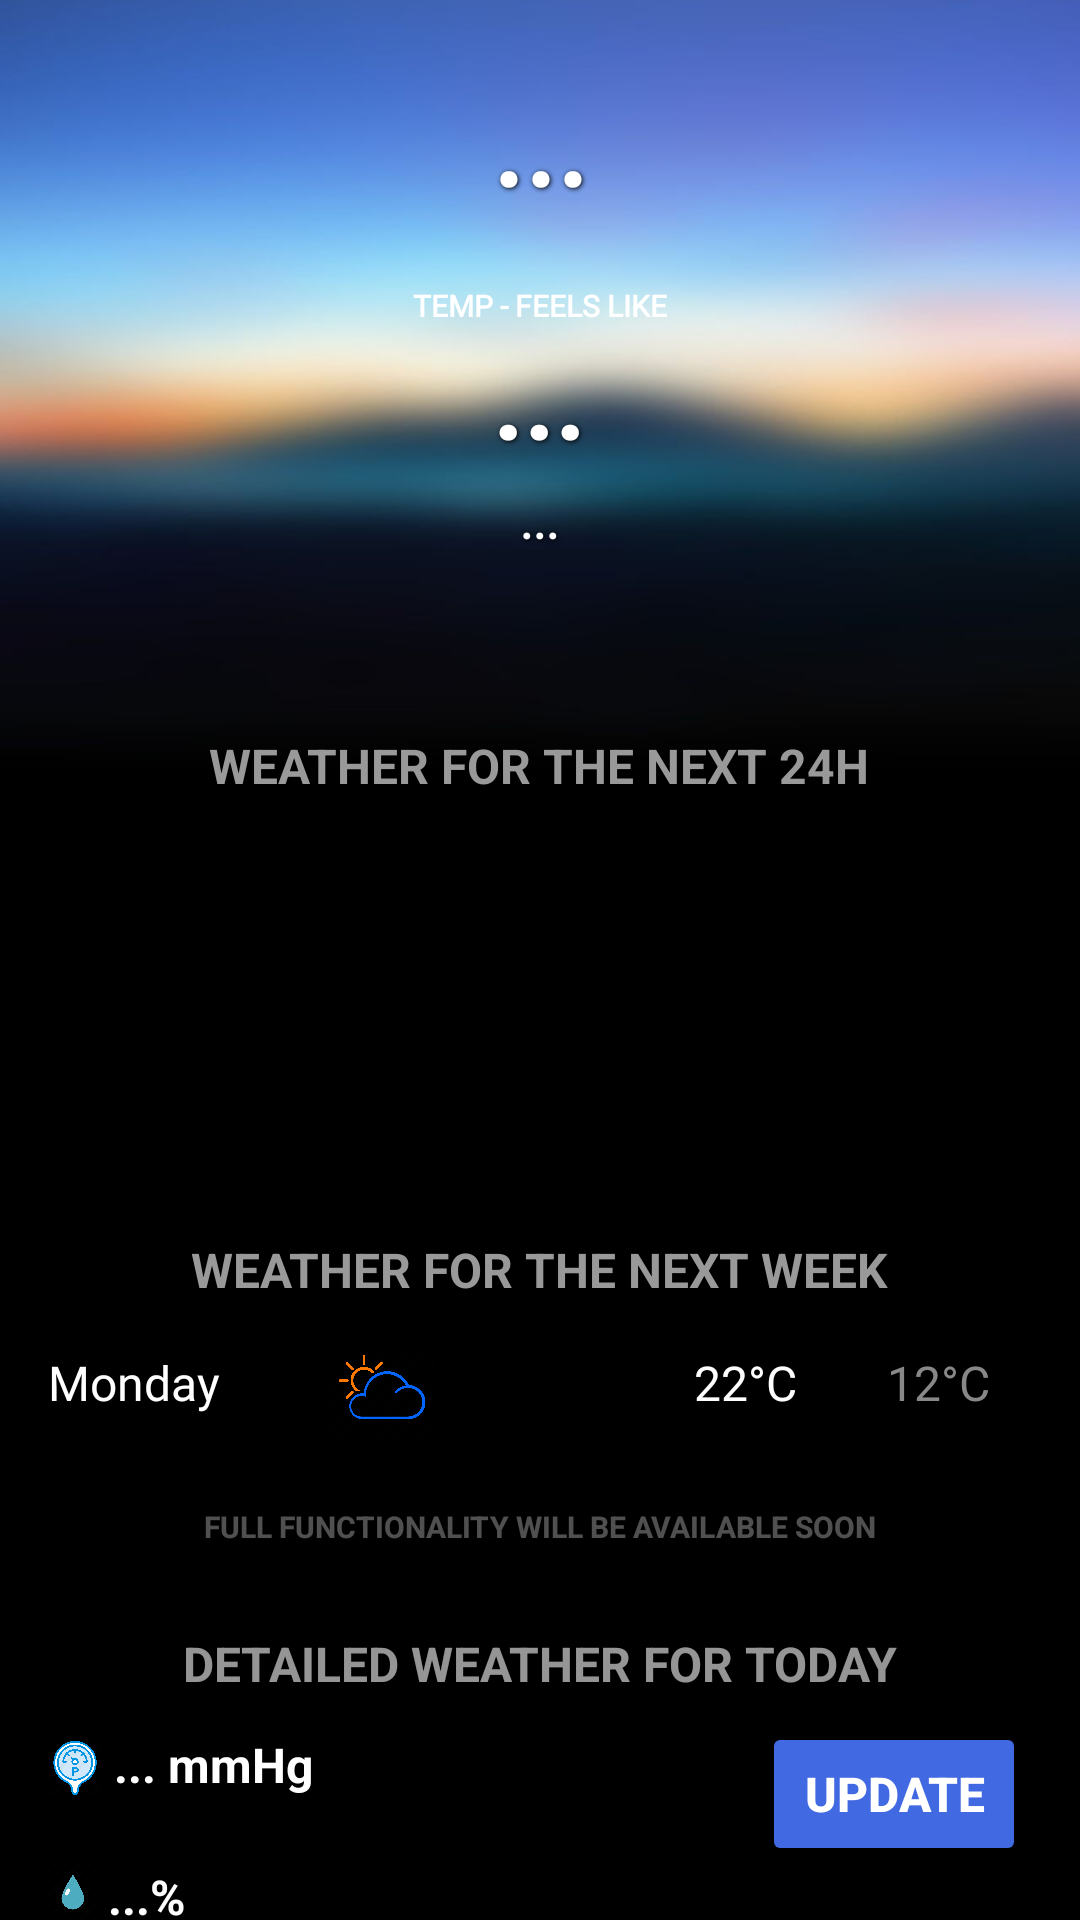

Named icons in this screenshot (1080x1920) and their centers, (x=x, y=y):
humidity: (x=72, y=1892)
pressure: (x=75, y=1768)
